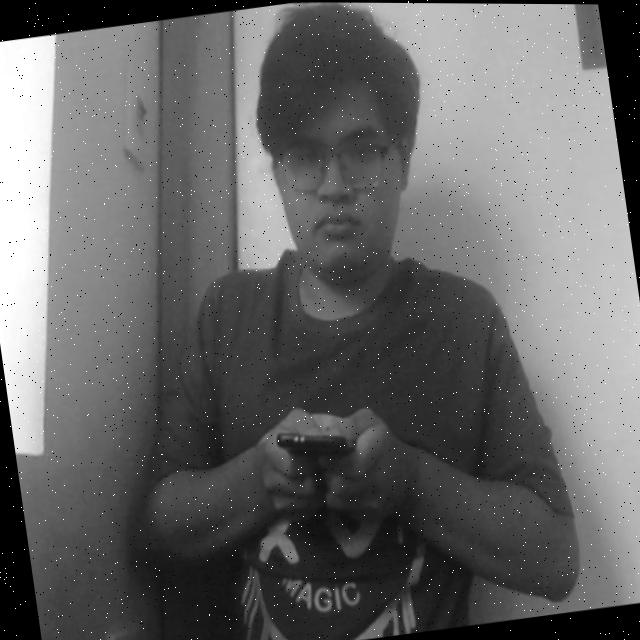phone: (259, 389, 379, 494)
